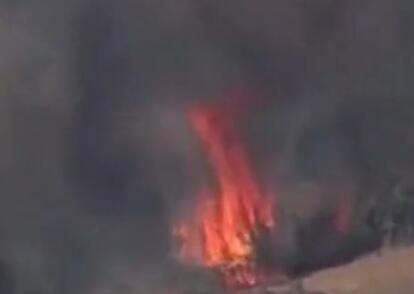fire: (158, 102, 280, 283)
